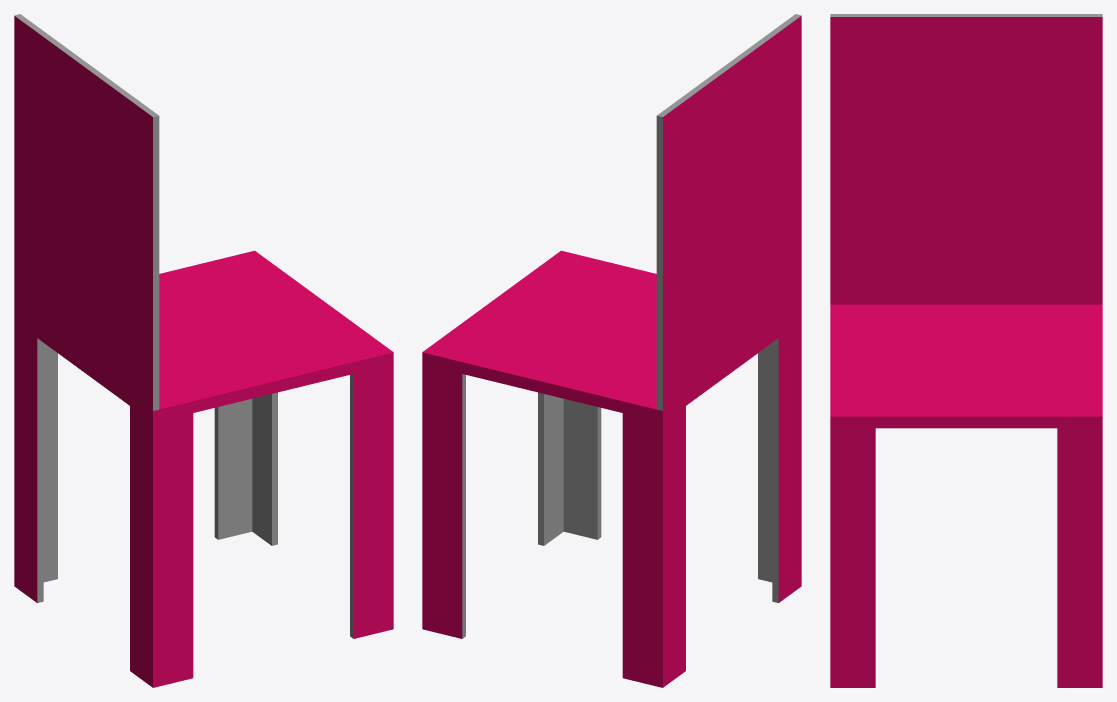
Rendered from PaperChair.fbx.
3 renders of one model, left to right at view 1: azimuth 30°, elevation 25°; view 2: azimuth 150°, elevation 25°; view 3: azimuth 270°, elevation 25°, orthographic. The views are drawn at different scales.
Parts seen in each view (by area): view 1: pCube180; view 2: pCube180; view 3: pCube180.
Part boxes in pixels (x1,y1,x2,y2): pCube180: (14, 14, 393, 687); pCube180: (422, 14, 801, 687); pCube180: (830, 14, 1102, 687).
Size of the model in its own units: 6 by 13.6 by 6.
